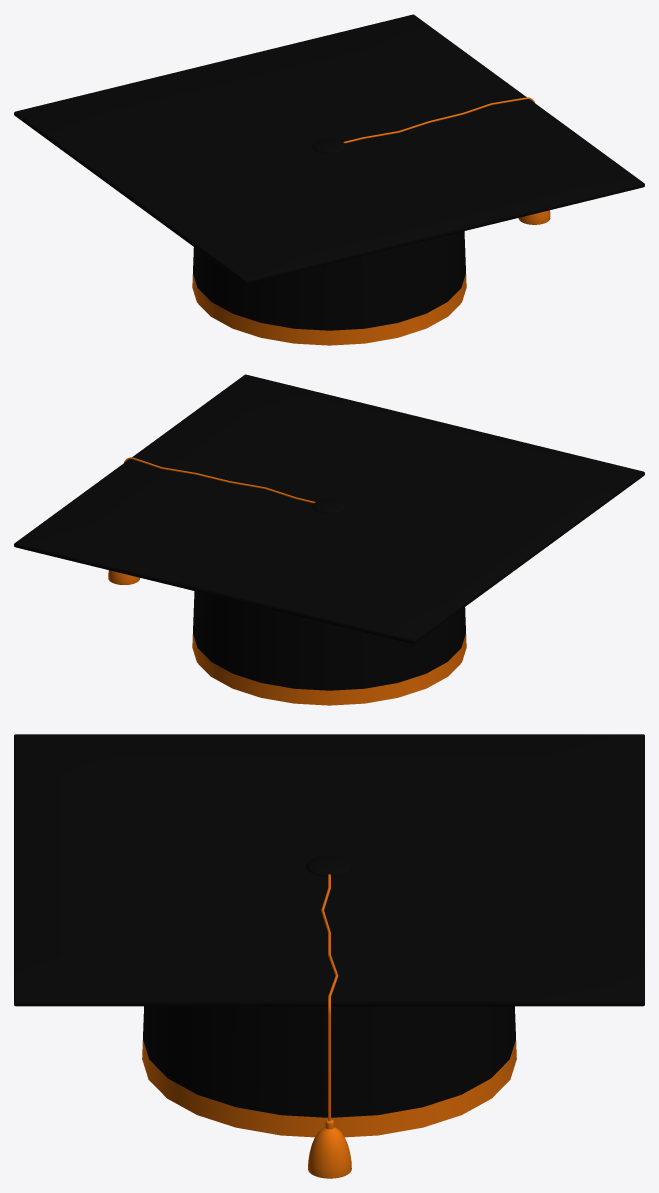
The model's file is part5_diplome.glb.
3 renders of one model, top to bottom at view 1: azimuth 30°, elevation 25°; view 2: azimuth 150°, elevation 25°; view 3: azimuth 270°, elevation 25°, orthographic. The views are drawn at different scales.
Parts seen in each view (by area): view 1: Cube_2, Cube.001_4; view 2: Cube_2, Cube.001_4; view 3: Cube_2, Sphere.001_5, Sphere_3, Cube.001_4.
Boxes of the visible parts, x1,y1,x2,y2 form: Cube_2: (14, 14, 644, 345); Cube.001_4: (343, 97, 534, 143); Cube_2: (14, 374, 644, 705); Cube.001_4: (124, 457, 315, 503); Cube_2: (14, 734, 644, 1137); Sphere.001_5: (308, 1119, 351, 1178); Sphere_3: (306, 855, 352, 876); Cube.001_4: (321, 874, 338, 1120).
Bounding box in the file's own units: 0.9093 × 0.3006 × 0.868.
